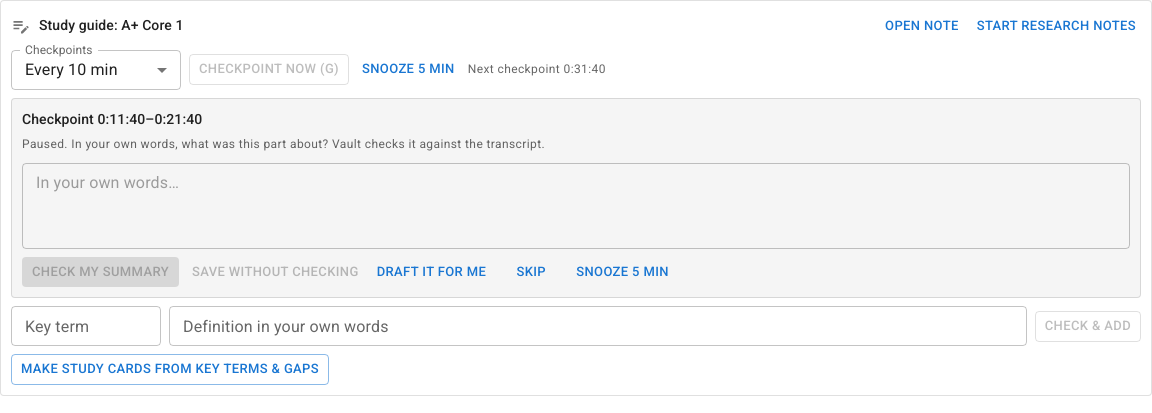
it: Study guide panel (#365) › a seek far past a checkpoint does not prompt; checkpoints can be skipped, snoozed and turned off
Check: the heading "Study guide: A+ Core 1" is shown, box [39,17,184,33]
Check: the text with test id "guide-next" reads "Next checkpoint 0:31:40", box [468,62,606,76]
Click the button "Skip" at coordinates (531, 272), box [499,257,563,288]
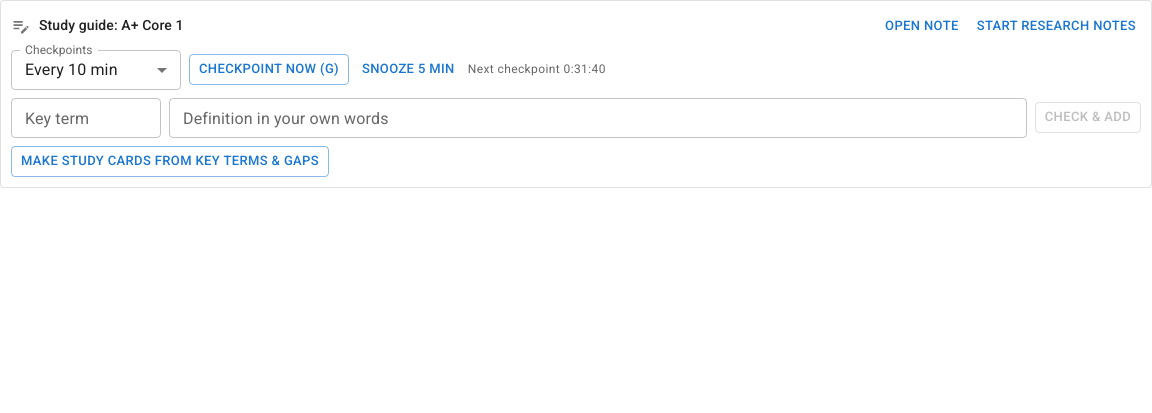
Click the button "Snooze 5 min" at coordinates (408, 70), box [357,54,460,85]
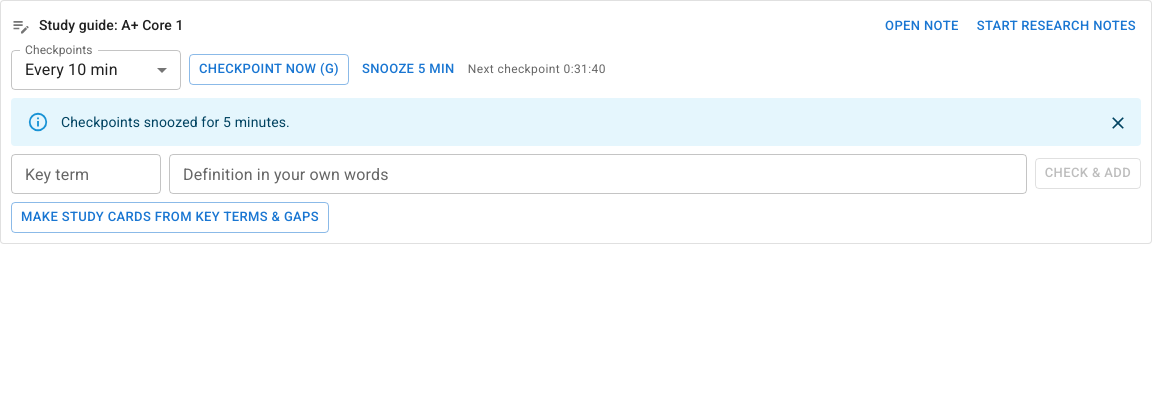
Check: the text "Checkpoints snoozed for 5 minutes." is shown, box [61,114,290,130]
Press the mouse on the dropdown named "Checkpoints" at coordinates (71, 70), box [25,60,118,79]
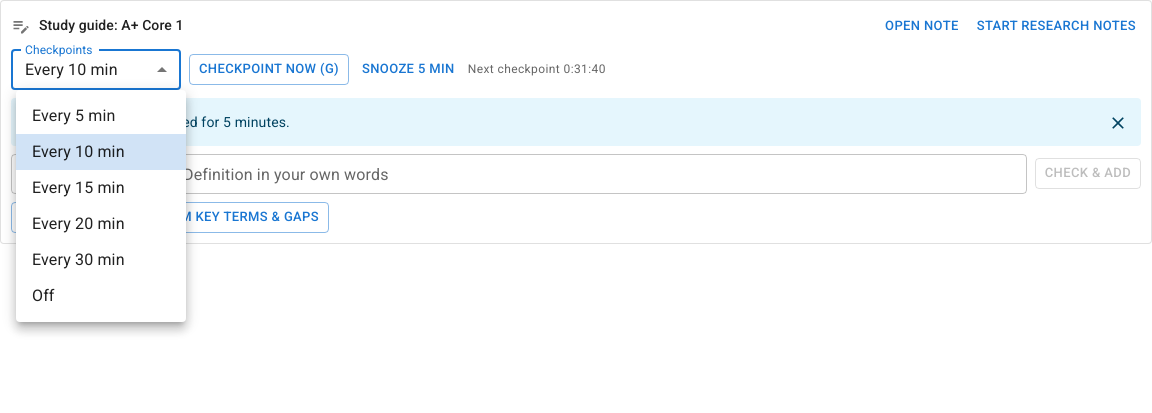
Click the option "Off" at coordinates (43, 296), box [32,286,55,305]
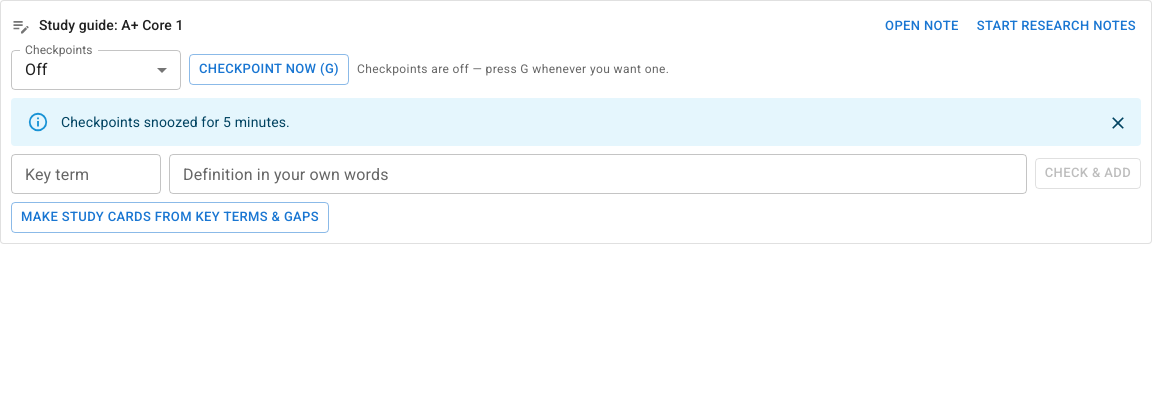
Check: the text "Checkpoints are off — press G whenever you want one." is shown, box [357,60,669,80]
